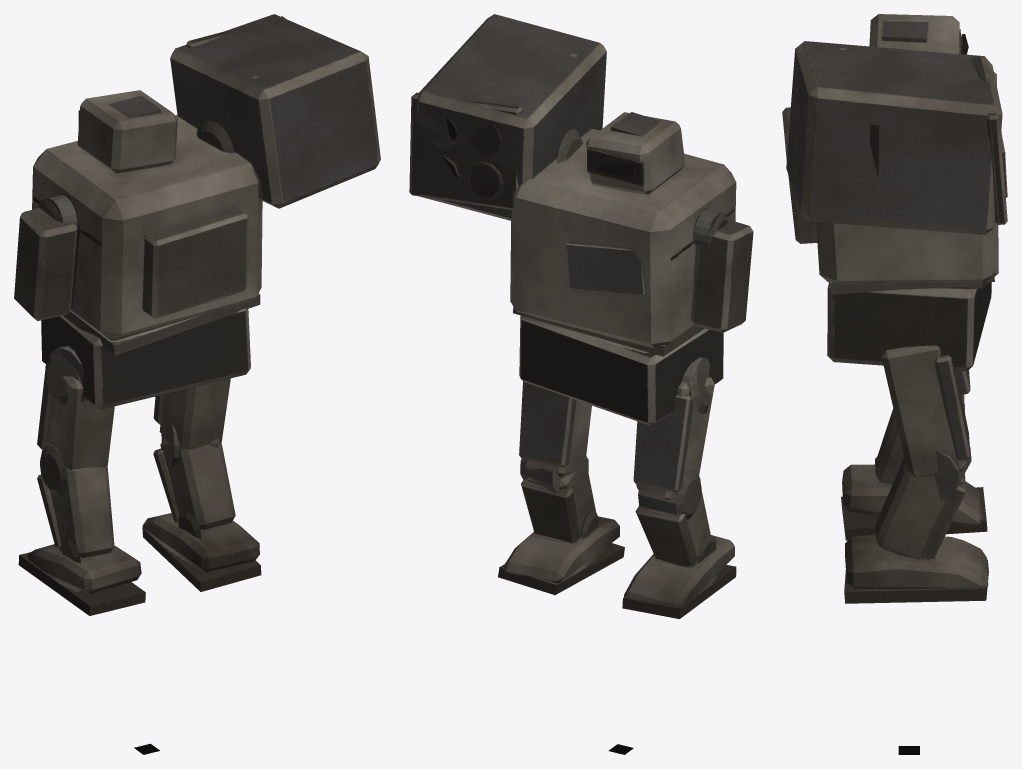
Rendered from ord_petard_wreck.fbx.
The picture shows the model from 3 angles, left to right: view 1: azimuth 30°, elevation 25°; view 2: azimuth 150°, elevation 25°; view 3: azimuth 270°, elevation 25°; orthographic projection. The views are drawn at different scales.
Parts seen in each view (by area): view 1: torso_bar, base_bar, thighL_bar, footR_bar, footL_bar, shinR_bar, shinL_bar, thighR_bar; view 2: torso_bar, base_bar, thighL_bar, thighR_bar, footR_bar, footL_bar, shinR_bar, shinL_bar; view 3: torso_bar, base_bar, thighR_bar, footR_bar, shinR_bar, footL_bar, shinL_bar.
Boxes of the visible parts, <box> form: torso_bar: <box>14,14,380,355</box>; base_bar: <box>41,308,250,409</box>; thighL_bar: <box>37,346,114,496</box>; footR_bar: <box>142,513,261,591</box>; footL_bar: <box>18,544,145,615</box>; shinR_bar: <box>153,438,235,538</box>; shinL_bar: <box>37,466,114,563</box>; thighR_bar: <box>153,378,230,466</box>; torso_bar: <box>409,14,753,356</box>; base_bar: <box>519,316,723,425</box>; thighL_bar: <box>633,357,714,520</box>; thighR_bar: <box>519,381,591,494</box>; footR_bar: <box>498,516,624,594</box>; footL_bar: <box>622,535,736,618</box>; shinR_bar: <box>521,471,598,543</box>; shinL_bar: <box>635,491,716,567</box>; torso_bar: <box>782,14,1007,294</box>; base_bar: <box>827,282,991,371</box>; thighR_bar: <box>881,345,971,501</box>; footR_bar: <box>844,534,988,603</box>; shinR_bar: <box>875,457,965,559</box>; footL_bar: <box>841,464,987,540</box>; shinL_bar: <box>874,403,964,484</box>.
Size of the model in its own units: 367 by 774 by 209.
Materials: 2 (2 with a texture image).
